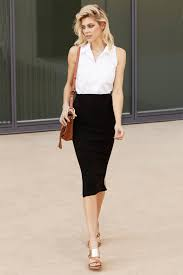F_tailored skirt: (64, 90, 124, 204)
